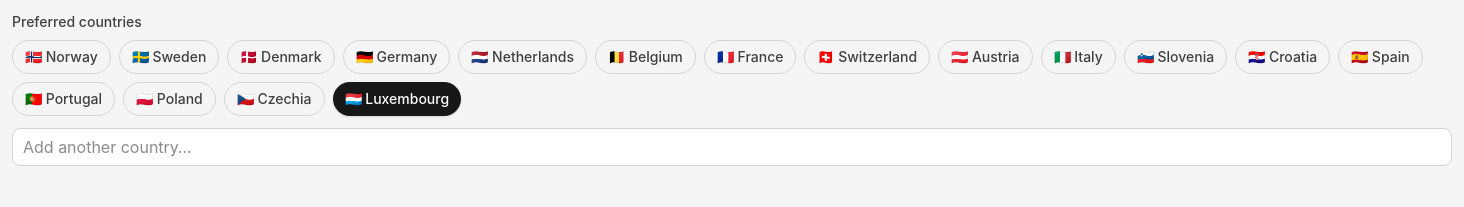
Test: ChipMultiSelect country search › leaves an already-selected country out of the results and says why
The image size is (1464, 207).
Type "luxem" into the search field with test id "country-search".
click(732, 147); type("luxem")  # box [12,128,1452,166]
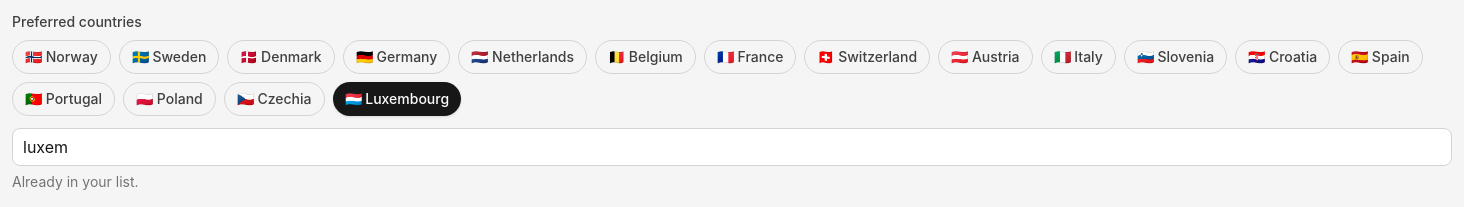
Now the text with test id "country-search-empty" reads "Already in your list.", box [12,173,139,190]
